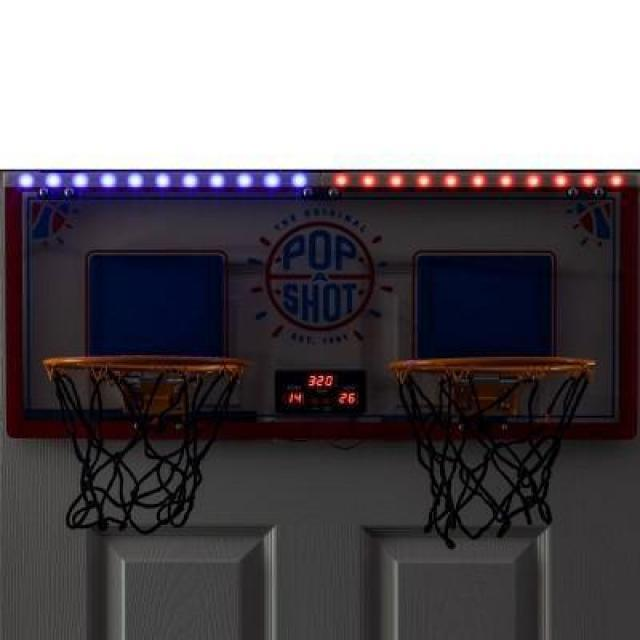hoop: (387, 358, 596, 550), (43, 355, 250, 534)
